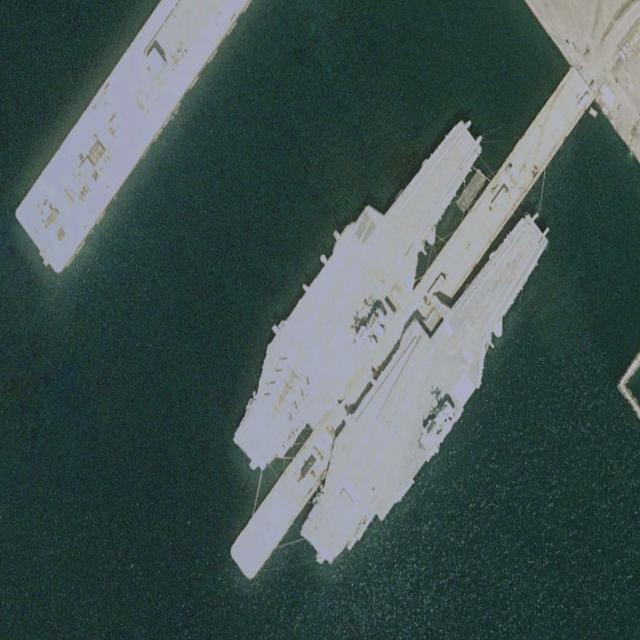Aircraft Carrier: (278, 176, 571, 588), (213, 91, 508, 499)
